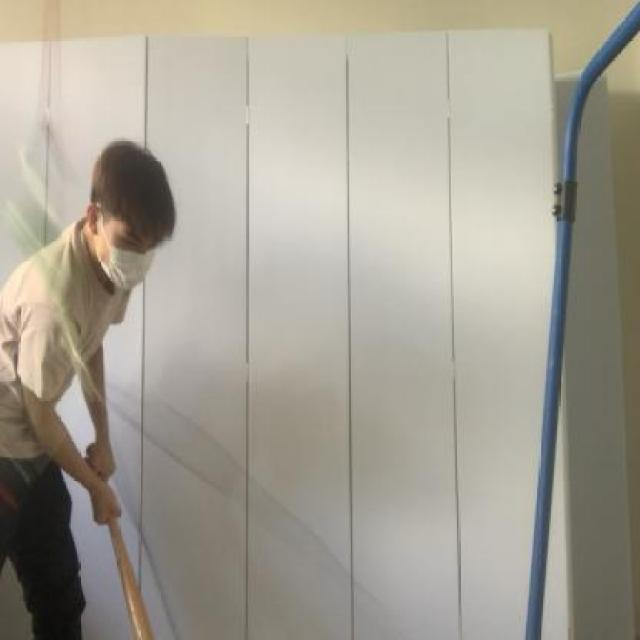baseball: (2, 165, 96, 364)
